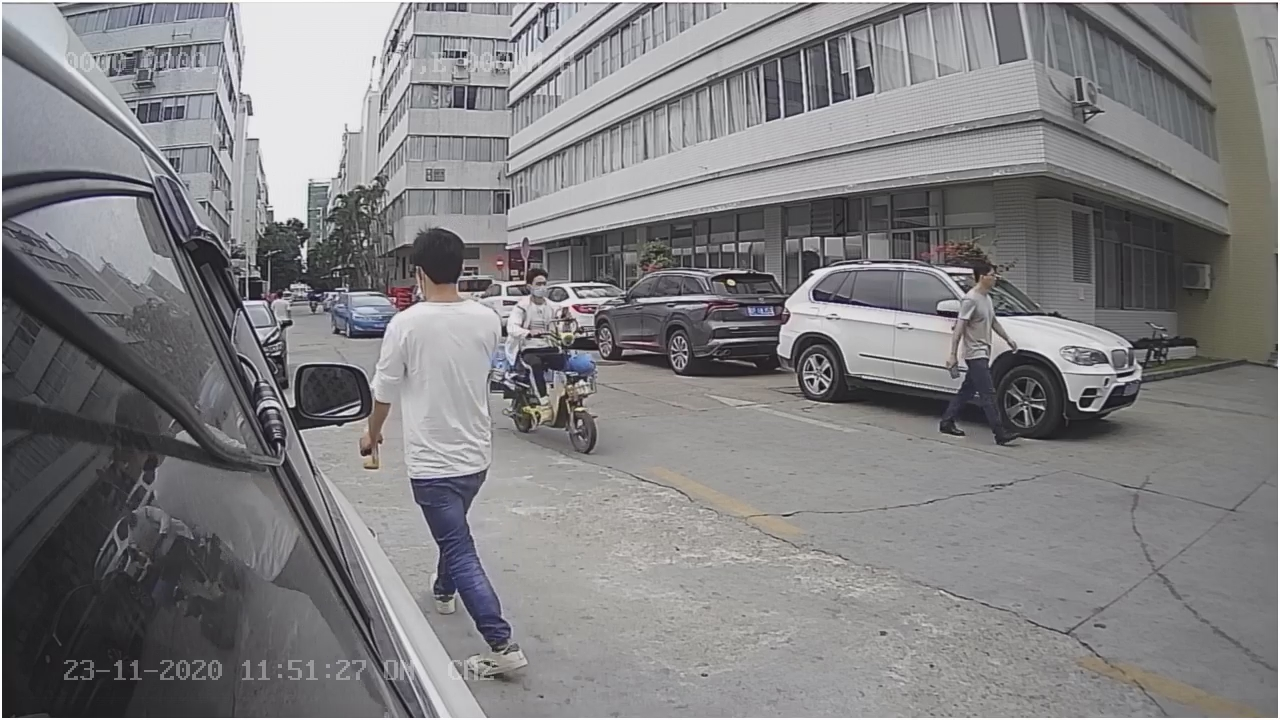person: (370, 220, 507, 379), (929, 247, 1026, 446)
